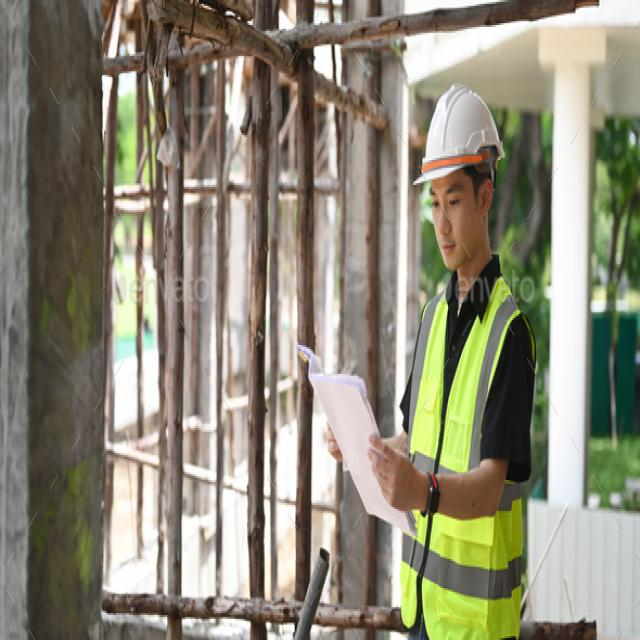helmet: (403, 90, 506, 189)
no-goggles: (425, 180, 491, 216)
vest: (403, 275, 535, 640)
